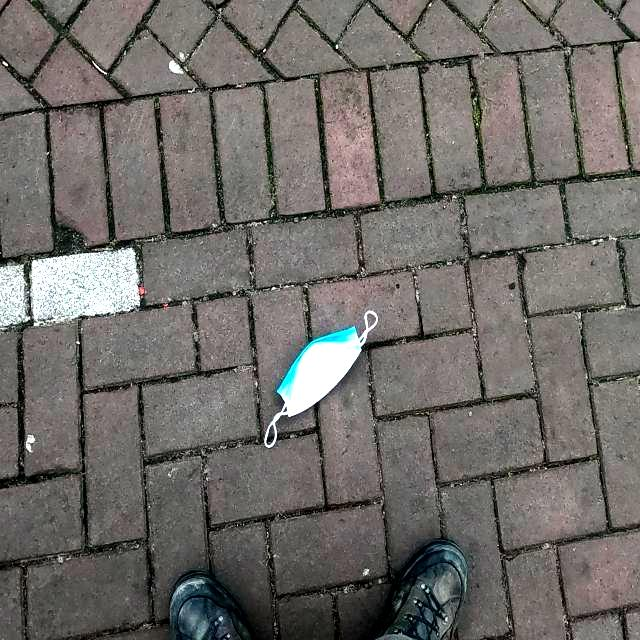Mask: (262, 308, 378, 449)
